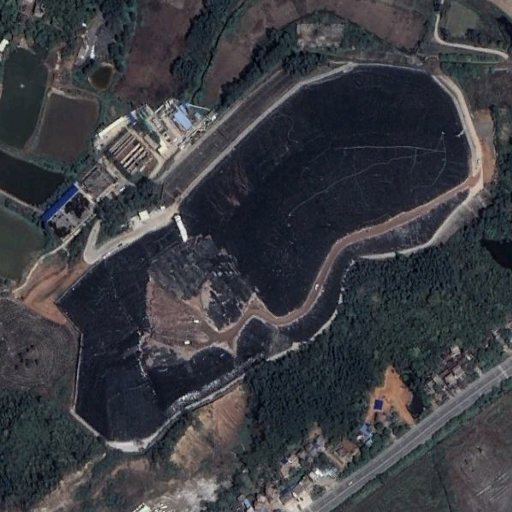lf: (52, 61, 474, 440)
